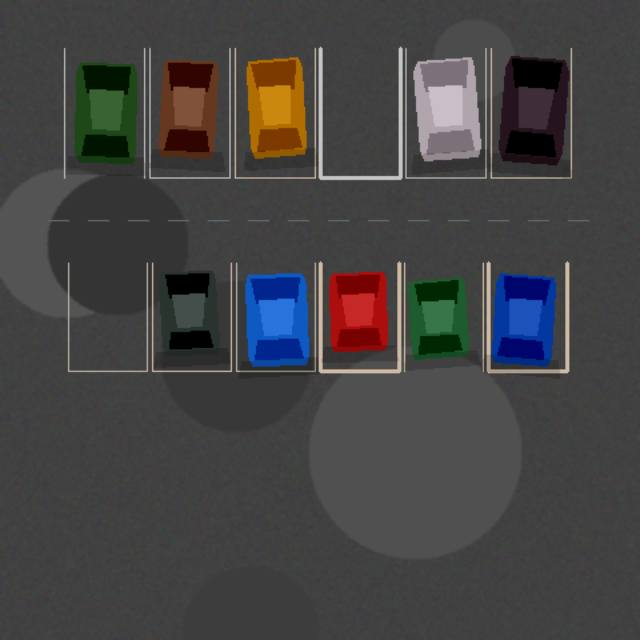space-empty: (320, 48, 400, 177), (68, 263, 147, 371)
space-occupied: (64, 48, 144, 177), (149, 48, 229, 177), (235, 48, 315, 177), (405, 48, 485, 177), (491, 48, 571, 177), (152, 263, 231, 371), (236, 263, 315, 371), (320, 263, 399, 371), (404, 263, 483, 371), (488, 263, 567, 371)
